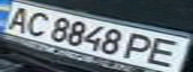4: (81, 23, 106, 53)
8: (100, 26, 130, 57), (42, 16, 75, 44), (63, 19, 87, 47)
A: (0, 3, 36, 33)
C: (15, 9, 54, 37)
E: (142, 35, 193, 70)
P: (124, 30, 163, 62)
